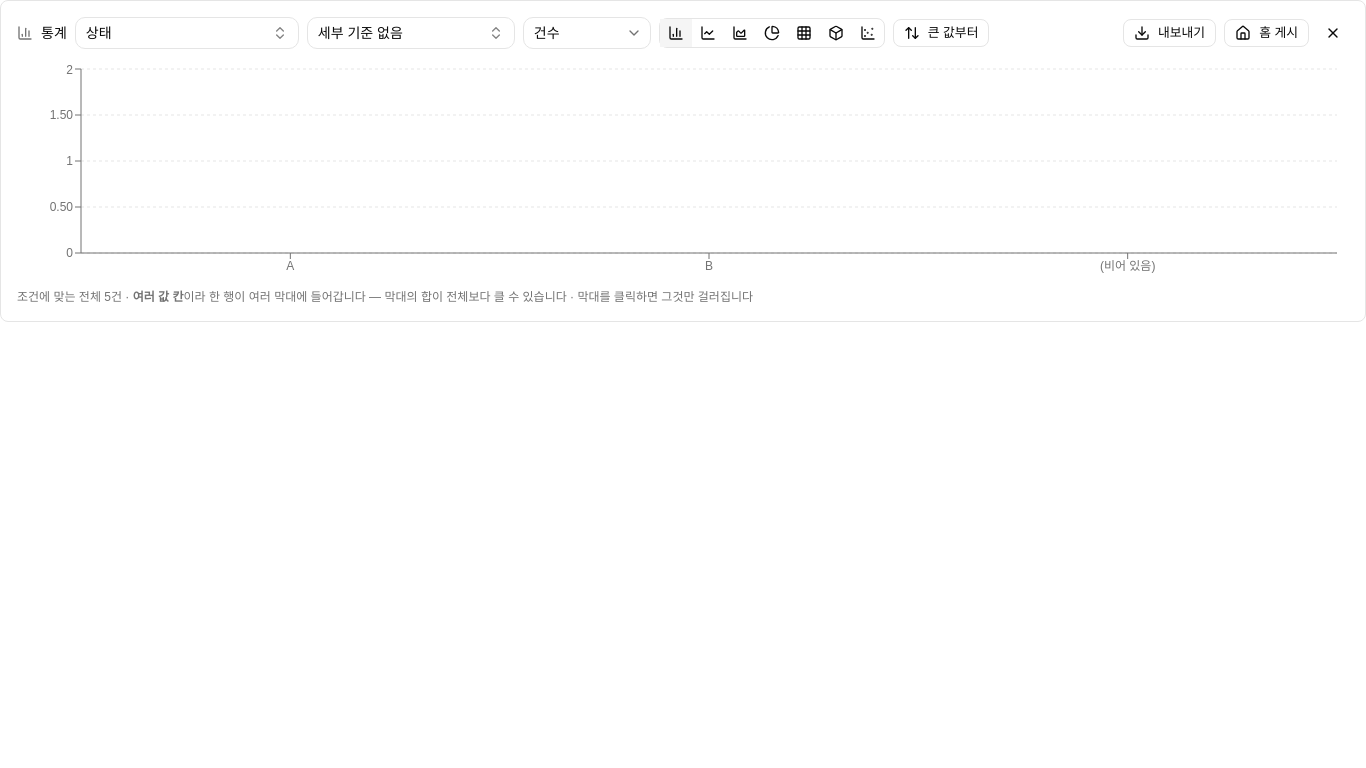
Test: 개별 순위 › 여러 값 기준이면 막대의 합이 전체보다 클 수 있다고 적고, 고르개에 표시한다
The width and height of the screenshot is (1366, 768).
Expected: the text "조건에 맞는 전체" is shown, top-left (17, 290), bottom-right (122, 304)
Expected: the text "한 행이 여러 막대에 들어갑니다" is shown, top-left (184, 290), bottom-right (567, 304)
Click the dropdown named "기준".
click(187, 33)  # box top-left (75, 17), bottom-right (299, 49)
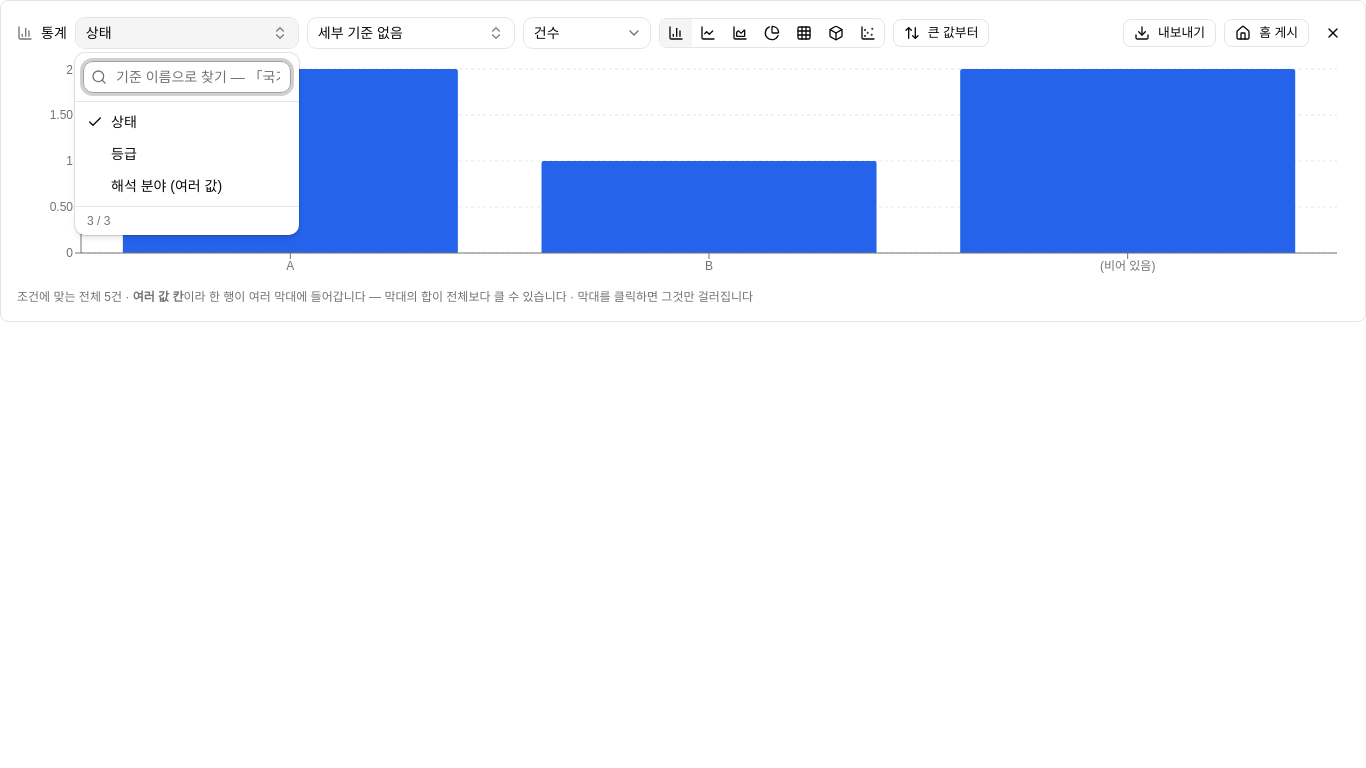
Expected: the button "해석 분야 (여러 값)" is shown, top-left (79, 170), bottom-right (295, 202)
